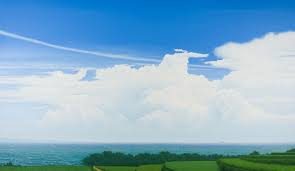field: (2, 158, 295, 168)
sea: (2, 140, 288, 159)
sky: (1, 1, 293, 139)
